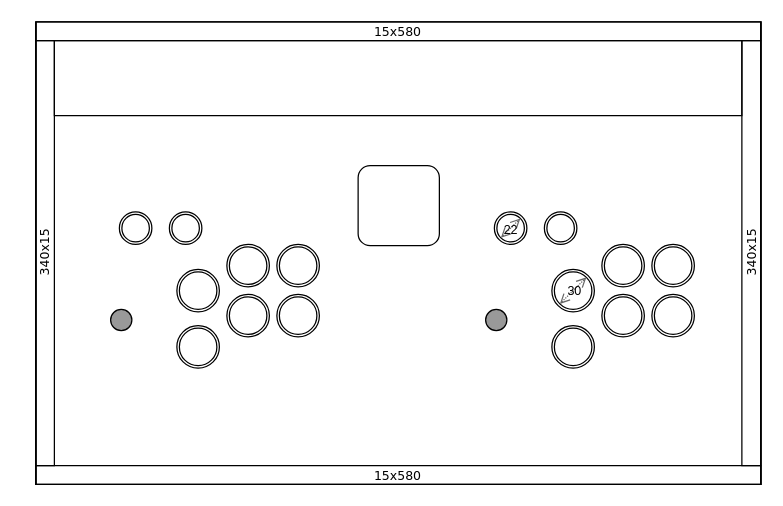
The diagram is 783 pixels wide and 506 high, and some of its shapes have lost their labels. Each missing label, with the box of its shape:
60x550: (53, 39, 742, 116)
65x64: (357, 164, 439, 246)
